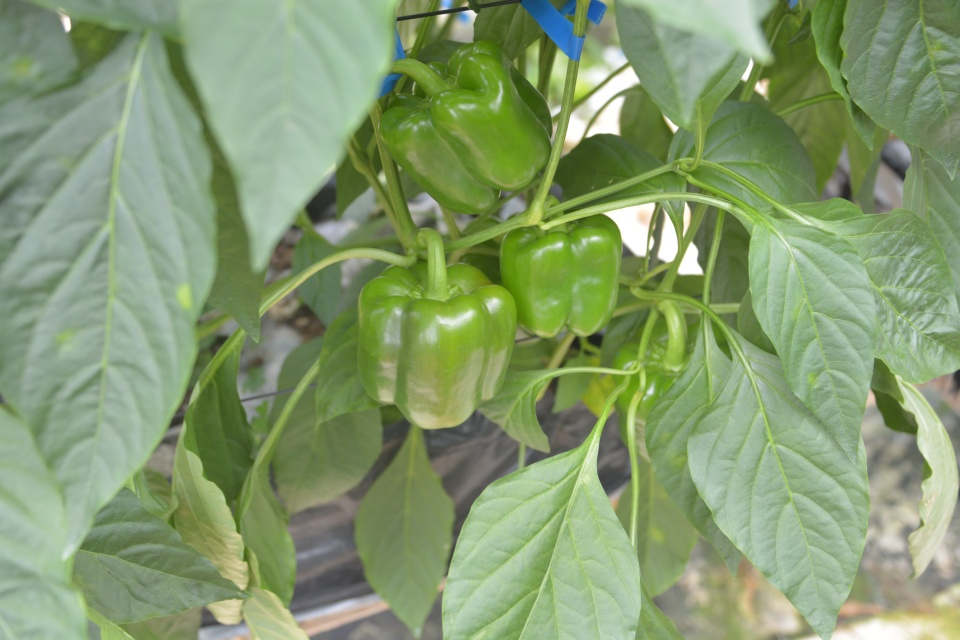fruit: (377, 36, 556, 217), (355, 258, 519, 432), (611, 314, 737, 458), (498, 211, 625, 340)
pedicle: (407, 277, 465, 302), (649, 341, 694, 371)
